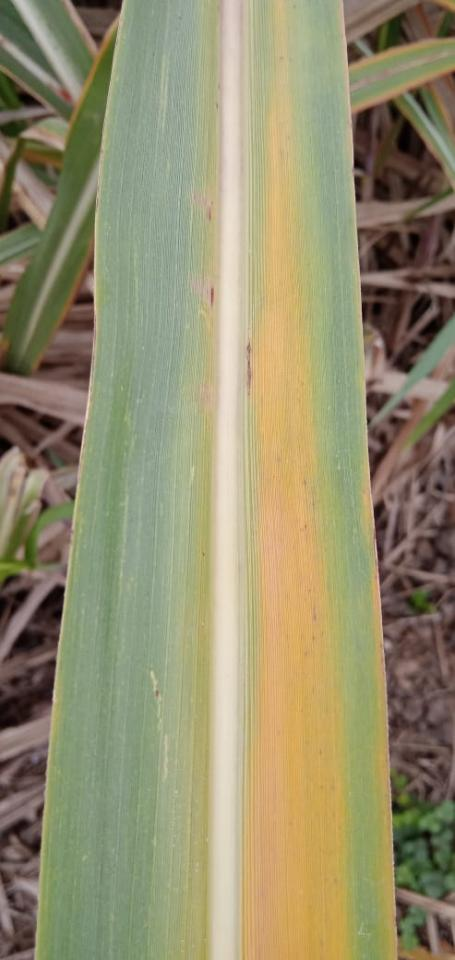Rust: (245, 339, 252, 397), (210, 287, 215, 308), (208, 204, 213, 222), (155, 689, 160, 701)
Yellow: (246, 101, 348, 958), (374, 527, 398, 959)
